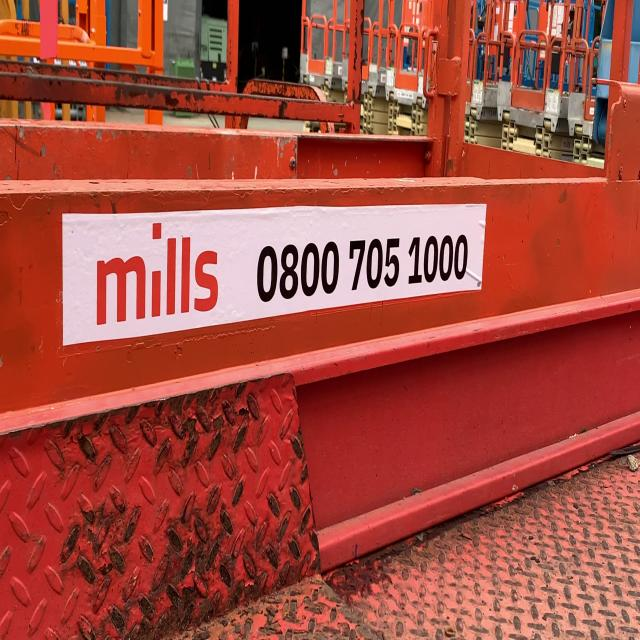Adesivo Longo: (59, 196, 490, 357)
